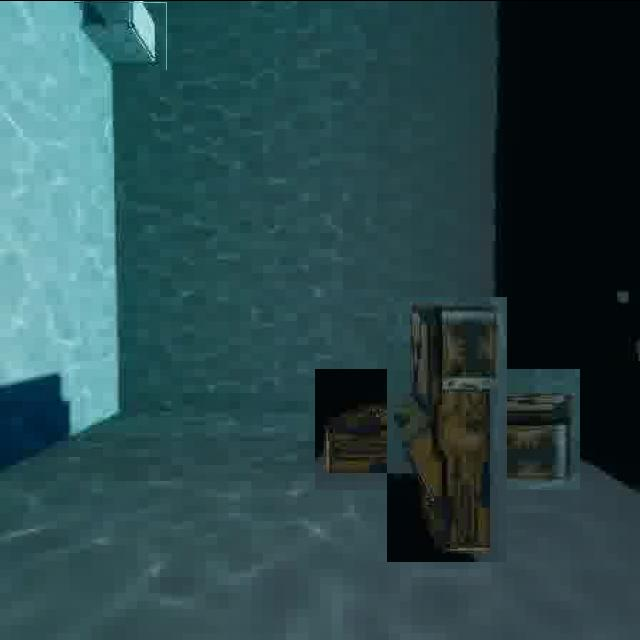Control Panel: (351, 332, 544, 525)
Docking Station: (74, 1, 167, 69)
